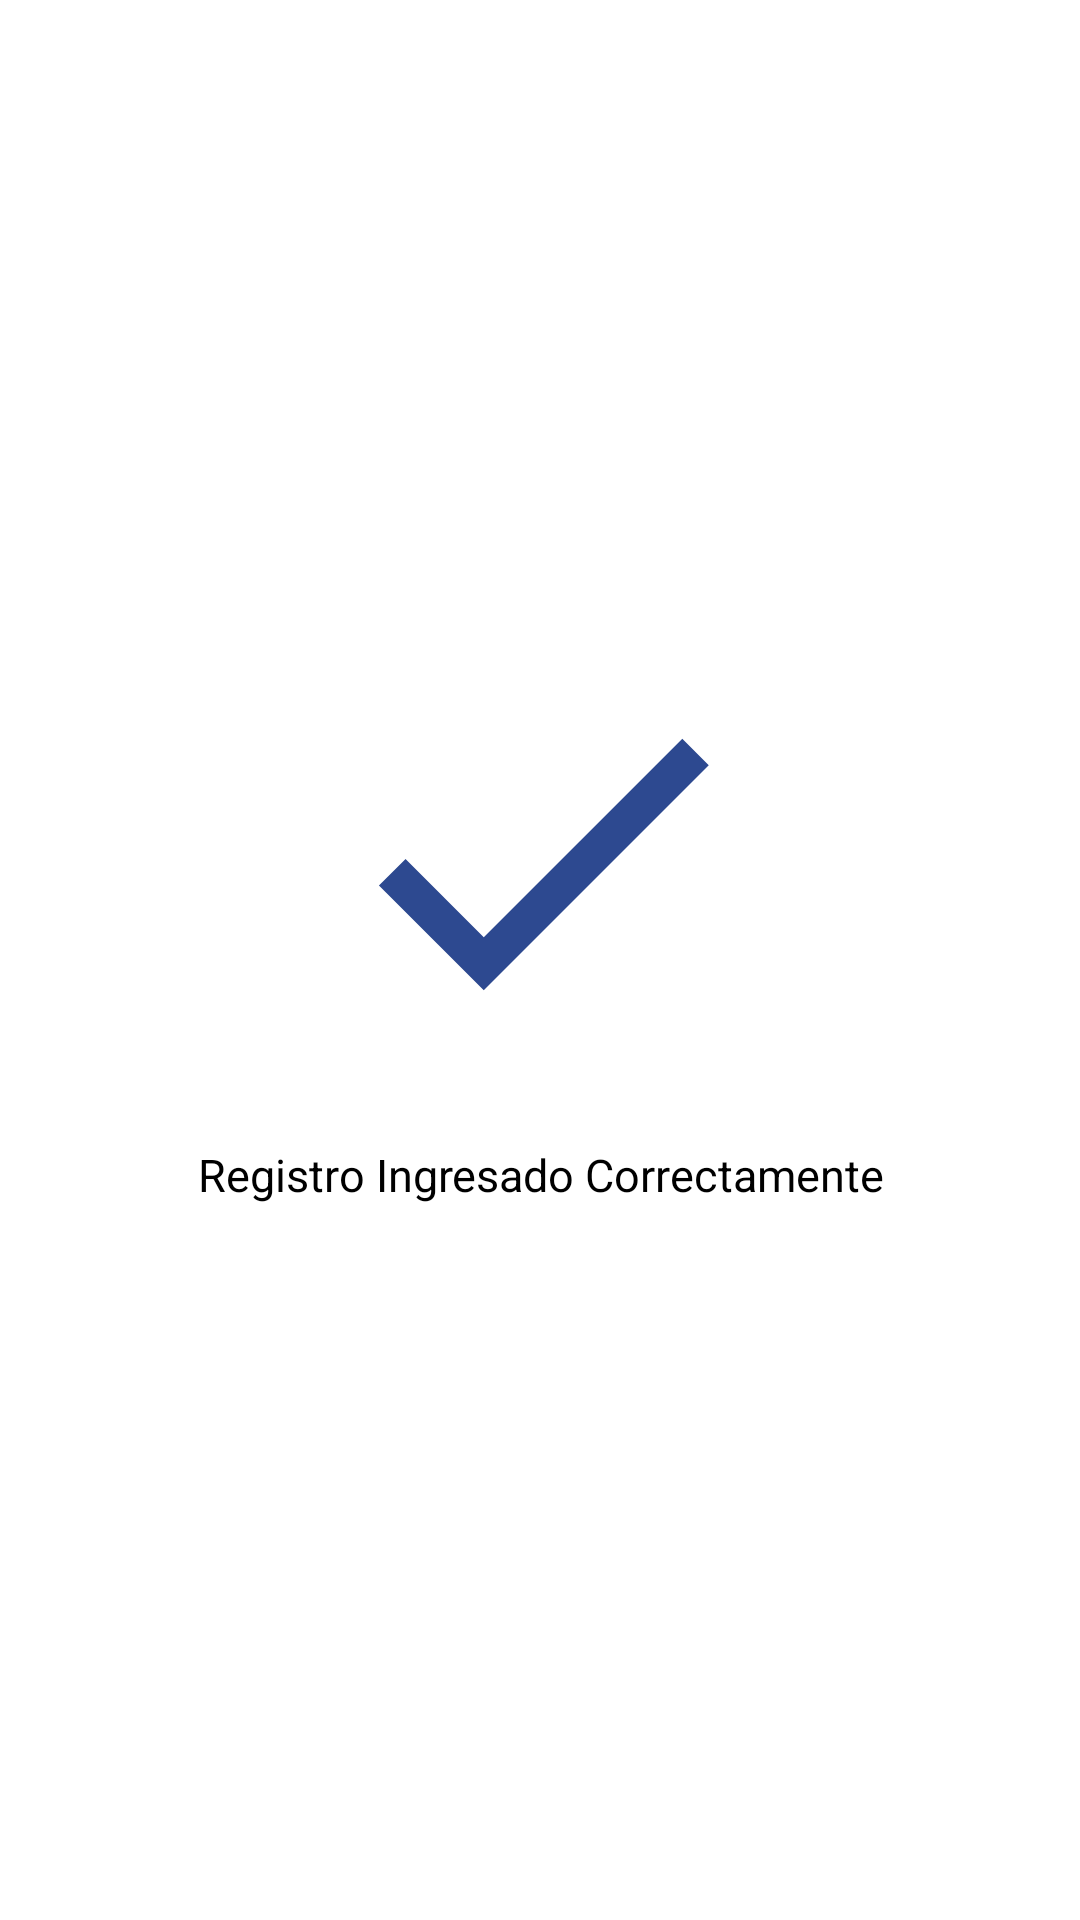

Icon bounding boxes for this 1080*1920 phone screenshot, format (left=x1, top=y1, right=x2, bottom=y2):
check: (left=379, top=739, right=709, bottom=990)
